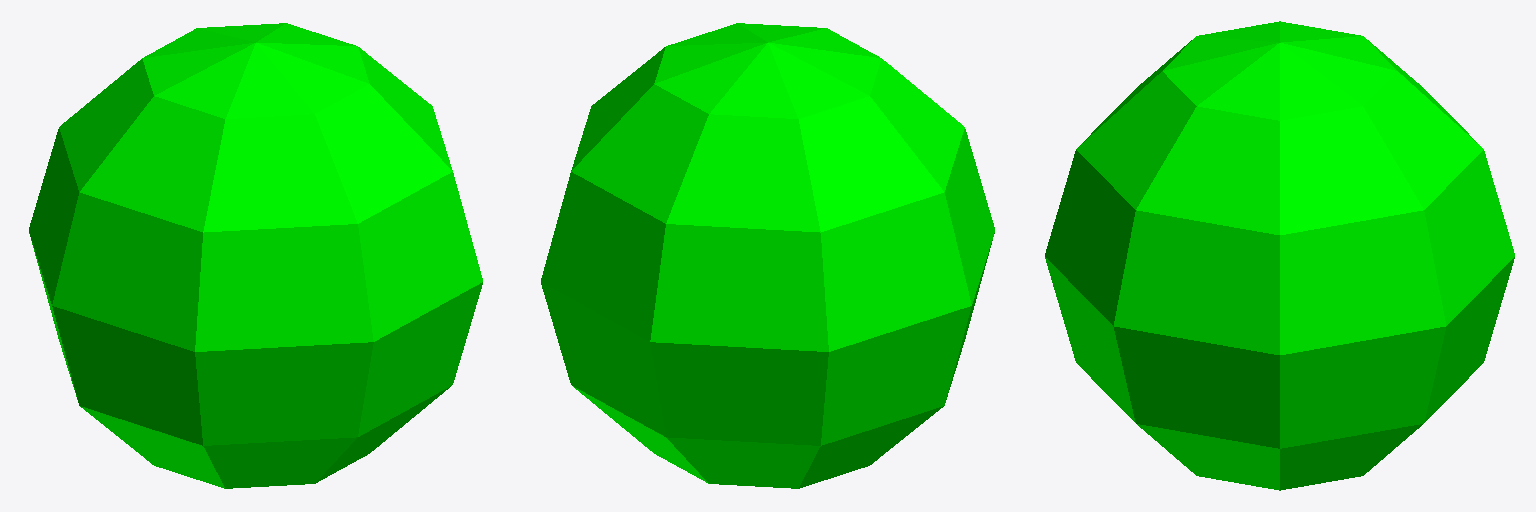
3 renders of one model, left to right at view 1: azimuth 30°, elevation 25°; view 2: azimuth 150°, elevation 25°; view 3: azimuth 270°, elevation 25°, orthographic.
Visible parts, largest first — view 1: fire_bubble_Icosphere; view 2: fire_bubble_Icosphere; view 3: fire_bubble_Icosphere.
Boxes of the visible parts, <box> form: fire_bubble_Icosphere: <box>29,23,482,488</box>; fire_bubble_Icosphere: <box>541,23,994,488</box>; fire_bubble_Icosphere: <box>1045,21,1514,490</box>.
Size of the model in its own units: 0.1 by 0.1 by 0.1.
Materials: 1 (1 with a texture image).